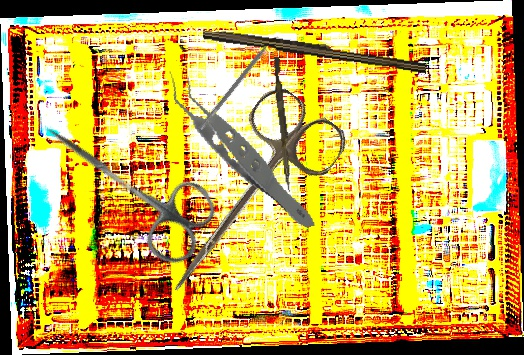Iris Scissors: (140, 80, 353, 322), (21, 95, 228, 274)
Pusher: (270, 56, 296, 193)
Scalpel Handle: (201, 25, 429, 74)
Spatula Surgical: (198, 32, 281, 134)
Tissue Forceps: (167, 45, 317, 251)
